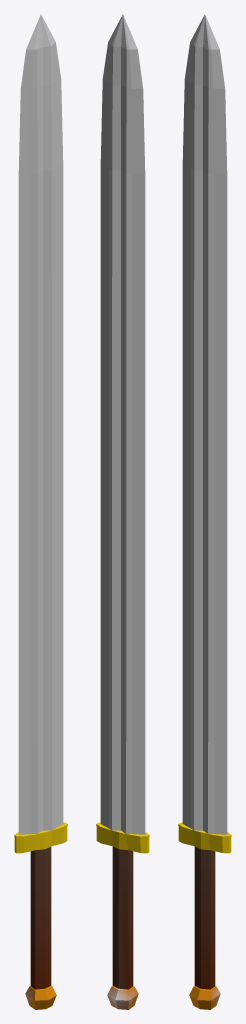
File: Sword.fbx
3 renders of one model, left to right at view 1: azimuth 30°, elevation 25°; view 2: azimuth 150°, elevation 25°; view 3: azimuth 330°, elevation 25°, orthographic.
Visible parts, largest first — view 1: Sword; view 2: Sword; view 3: Sword.
Boxes of the visible parts, x1,y1,x2,y2 form: Sword: (14, 14, 67, 1009); Sword: (96, 14, 149, 1009); Sword: (178, 14, 231, 1009).
Size of the model in its own units: 8.54 by 158 by 4.5.
